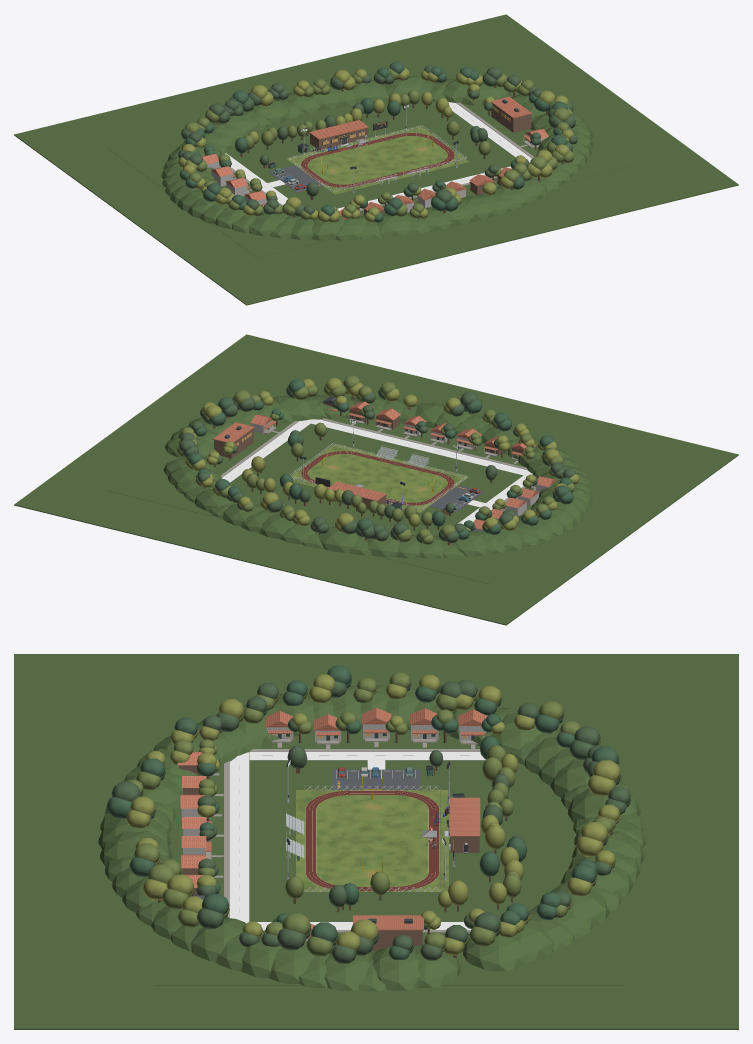
Rendered from high-school-track.glb.
The picture shows the model from 3 angles, top to bottom: view 1: azimuth 30°, elevation 25°; view 2: azimuth 150°, elevation 25°; view 3: azimuth 270°, elevation 25°; orthographic projection. The views are drawn at different scales.
Parts seen in each view (by area): view 1: 01 • Campus surroundings, 05 • School and tree line, 01 • Playing surface, 03 • Three-lane track, 10 • West parking lot, 11 • Chain link and midfield entrances; view 2: 01 • Campus surroundings, 05 • School and tree line, 01 • Playing surface, 03 • Three-lane track, 10 • West parking lot, 11 • Chain link and midfield entrances; view 3: 01 • Campus surroundings, 05 • School and tree line, 01 • Playing surface, 03 • Three-lane track, 10 • West parking lot, 11 • Chain link and midfield entrances.
Boxes of the visible parts, <box> form: 01 • Campus surroundings: <box>14,14,738,305</box>; 05 • School and tree line: <box>107,55,637,257</box>; 01 • Playing surface: <box>286,126,468,194</box>; 03 • Three-lane track: <box>301,133,454,187</box>; 10 • West parking lot: <box>268,165,323,192</box>; 11 • Chain link and midfield entrances: <box>289,125,466,191</box>; 01 • Campus surroundings: <box>14,334,738,625</box>; 05 • School and tree line: <box>107,381,637,583</box>; 01 • Playing surface: <box>291,444,468,512</box>; 03 • Three-lane track: <box>301,451,454,505</box>; 10 • West parking lot: <box>429,485,484,512</box>; 11 • Chain link and midfield entrances: <box>290,443,466,509</box>; 01 • Campus surroundings: <box>14,654,738,1029</box>; 05 • School and tree line: <box>155,696,622,985</box>; 01 • Playing surface: <box>296,790,448,891</box>; 03 • Three-lane track: <box>305,790,439,891</box>; 10 • West parking lot: <box>332,767,420,789</box>; 11 • Chain link and midfield entrances: <box>304,785,440,891</box>.
Bounding box in the file's own units: 220 × 20.91 × 180.
Materials: 64 (8 with a texture image).
